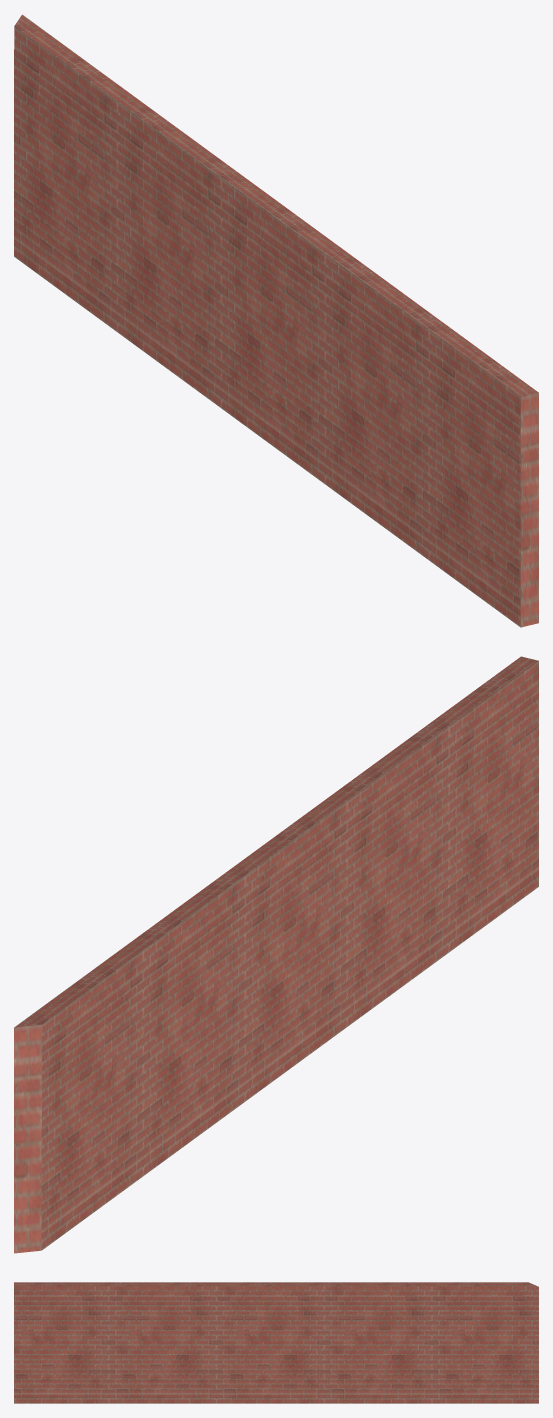
The model's file is BRICKWALL01.glb.
3 renders of one model, top to bottom at view 1: azimuth 30°, elevation 25°; view 2: azimuth 150°, elevation 25°; view 3: azimuth 270°, elevation 25°, orthographic. The views are drawn at different scales.
Parts seen in each view (by area): view 1: BRICKWALL01; view 2: BRICKWALL01; view 3: BRICKWALL01.
Boxes of the visible parts, <box> form: BRICKWALL01: <box>14,14,538,627</box>; BRICKWALL01: <box>14,656,538,1253</box>; BRICKWALL01: <box>14,1282,538,1403</box>.
Bounding box in the file's own units: 65.56 × 783 × 3183.
1 material, 1 textured.
